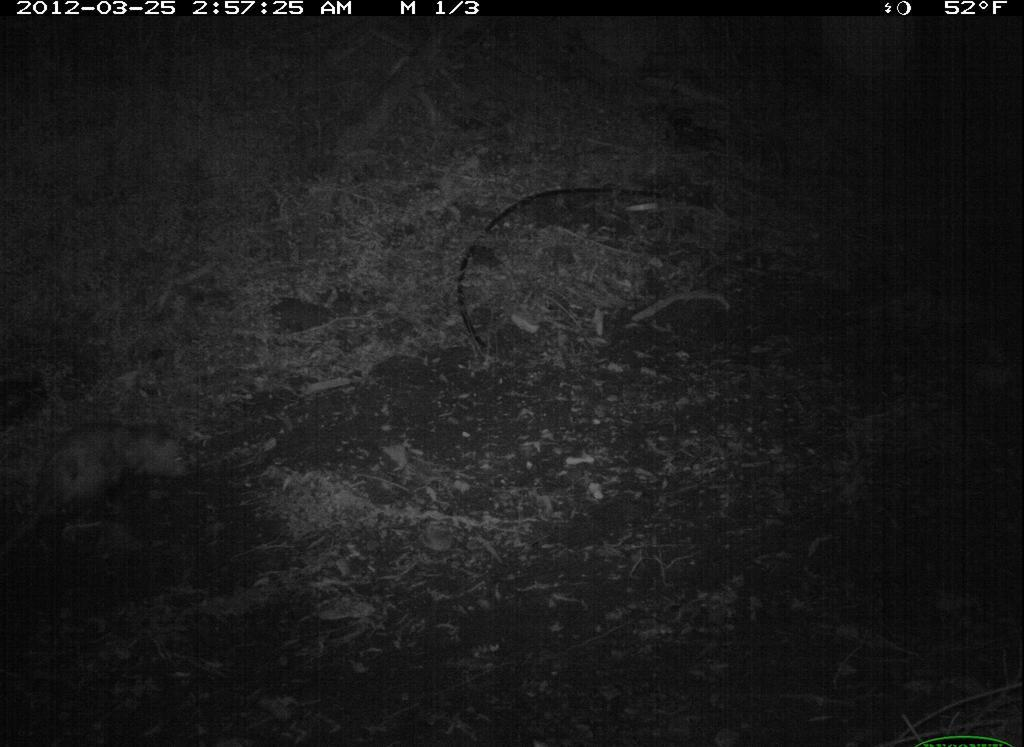opossum: (1, 415, 204, 557)
